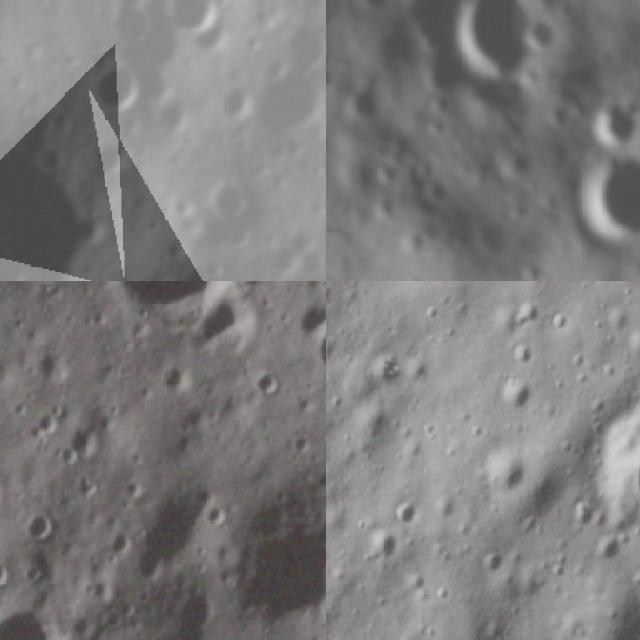crater: (229, 509, 326, 630), (444, 0, 556, 89), (580, 393, 640, 554), (261, 23, 326, 132), (570, 143, 640, 244), (104, 281, 266, 324), (466, 445, 532, 510), (0, 594, 82, 640), (588, 84, 640, 148), (97, 64, 138, 118), (339, 80, 384, 128), (61, 419, 103, 470), (208, 181, 262, 220), (113, 0, 161, 41), (525, 11, 566, 56), (173, 0, 222, 36), (22, 502, 59, 547), (252, 363, 290, 400), (365, 352, 402, 389), (70, 208, 104, 248), (420, 168, 456, 205), (535, 95, 571, 130), (369, 190, 402, 224), (516, 253, 550, 281), (371, 156, 400, 188), (416, 211, 444, 242), (414, 156, 439, 184), (355, 0, 395, 17), (313, 328, 326, 379), (326, 49, 336, 95)
